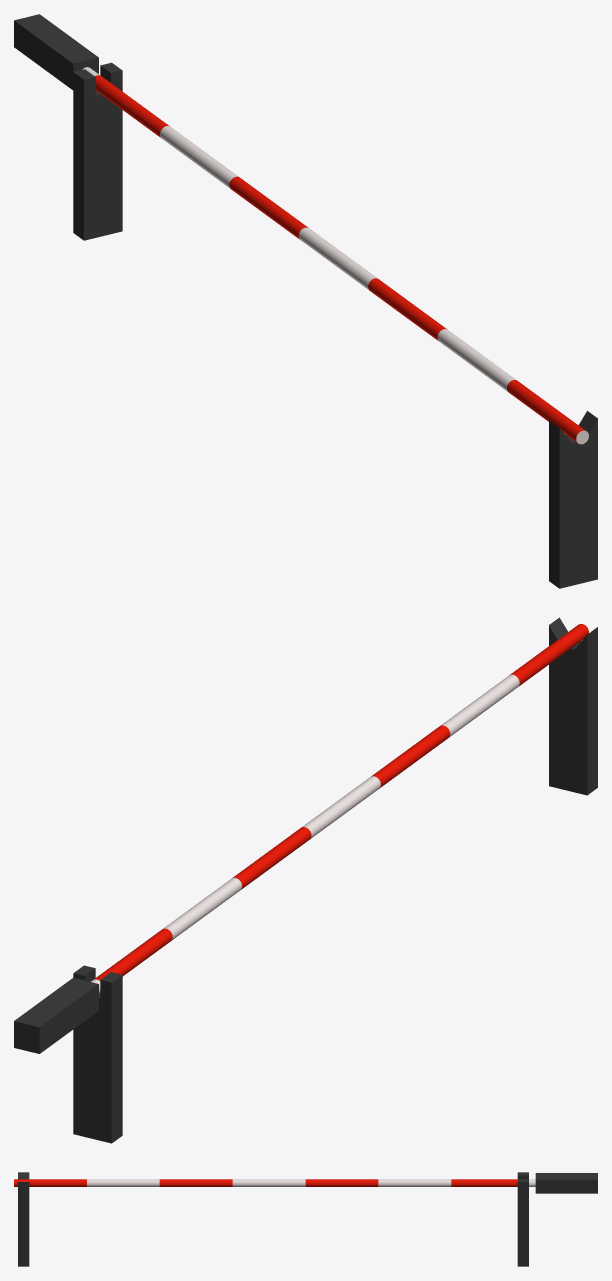
Rendered from barrier.glb.
3 renders of one model, top to bottom at view 1: azimuth 30°, elevation 25°; view 2: azimuth 150°, elevation 25°; view 3: azimuth 270°, elevation 25°, orthographic. The views are drawn at different scales.
Visible parts, largest first — view 1: Cylinder, Cube.001, Cube.002, Cube; view 2: Cylinder, Cube.002, Cube.001, Cube; view 3: Cylinder, Cube, Cube.001, Cube.002.
Boxes of the visible parts, <box> form: Cylinder: <box>82,67,588,444</box>; Cube.001: <box>73,62,122,240</box>; Cube.002: <box>549,411,597,588</box>; Cube: <box>14,14,98,90</box>; Cylinder: <box>91,624,588,993</box>; Cube.002: <box>549,617,597,795</box>; Cube.001: <box>73,965,122,1143</box>; Cube: <box>14,977,98,1053</box>; Cylinder: <box>14,1179,535,1186</box>; Cube: <box>535,1173,597,1193</box>; Cube.001: <box>517,1172,528,1266</box>; Cube.002: <box>18,1172,29,1266</box>.
Bounding box in the file's own units: 0.3 × 1.21 × 7.51.
